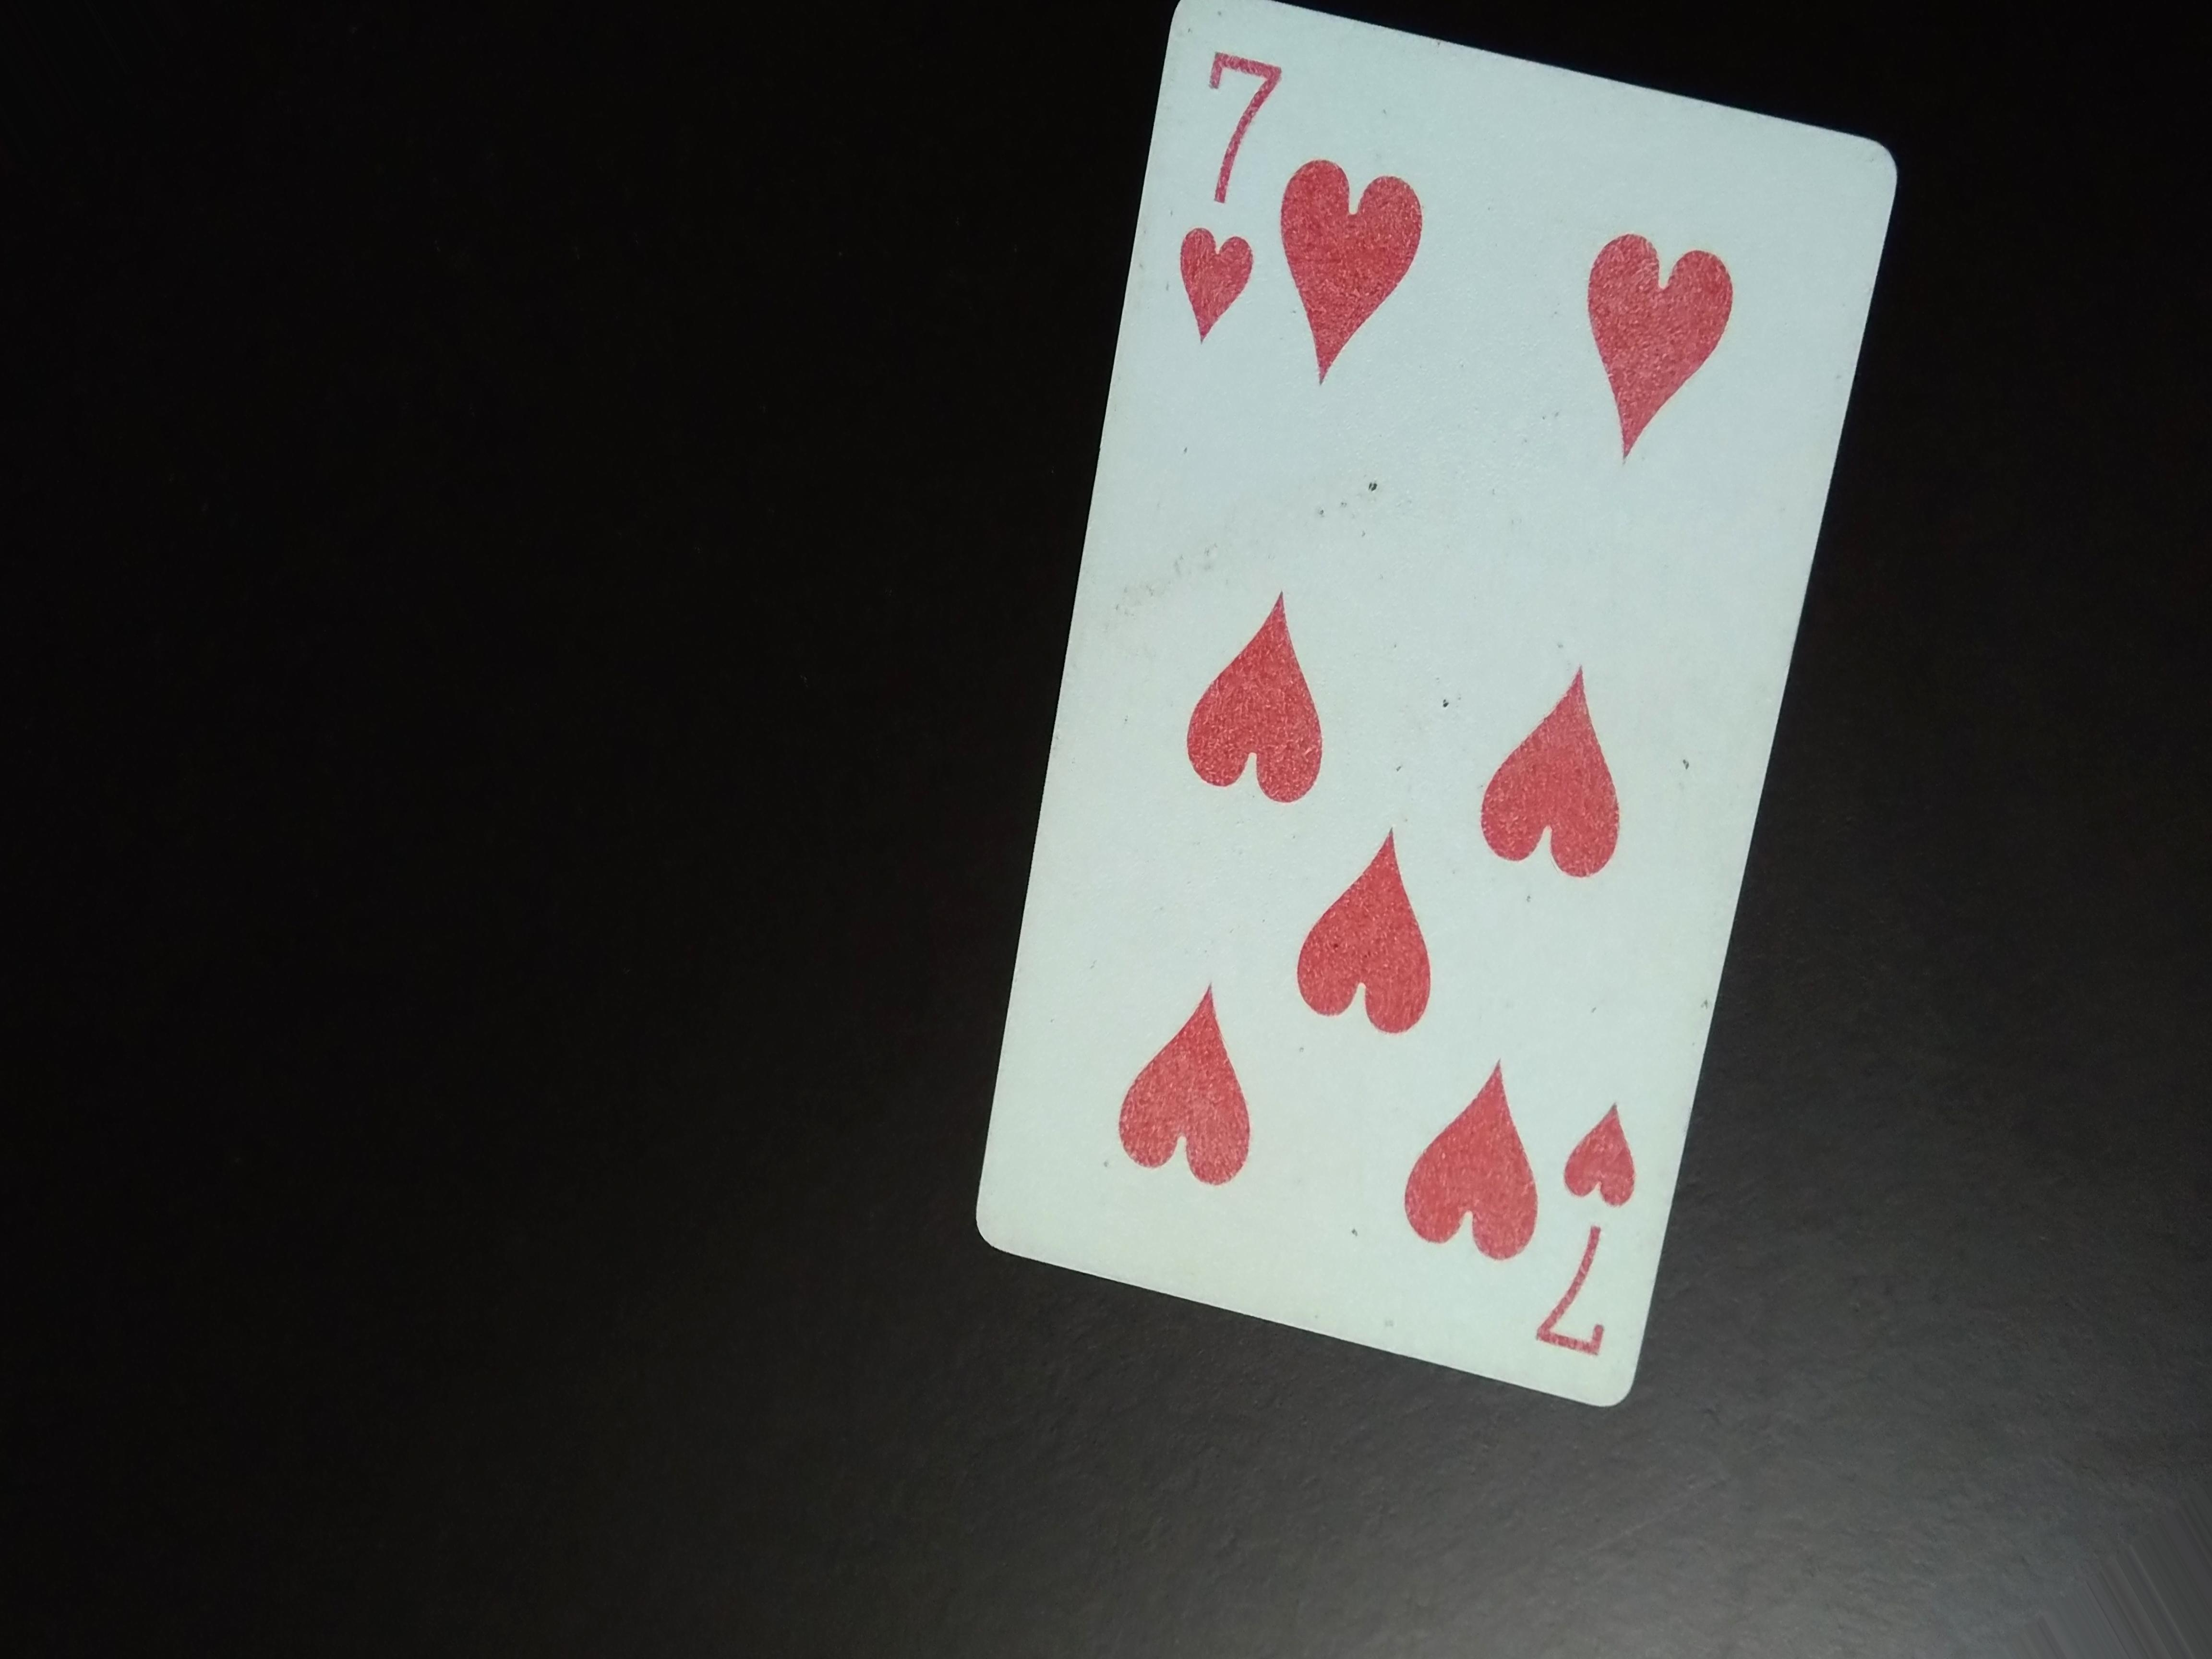7H: (1169, 16, 1296, 380)
